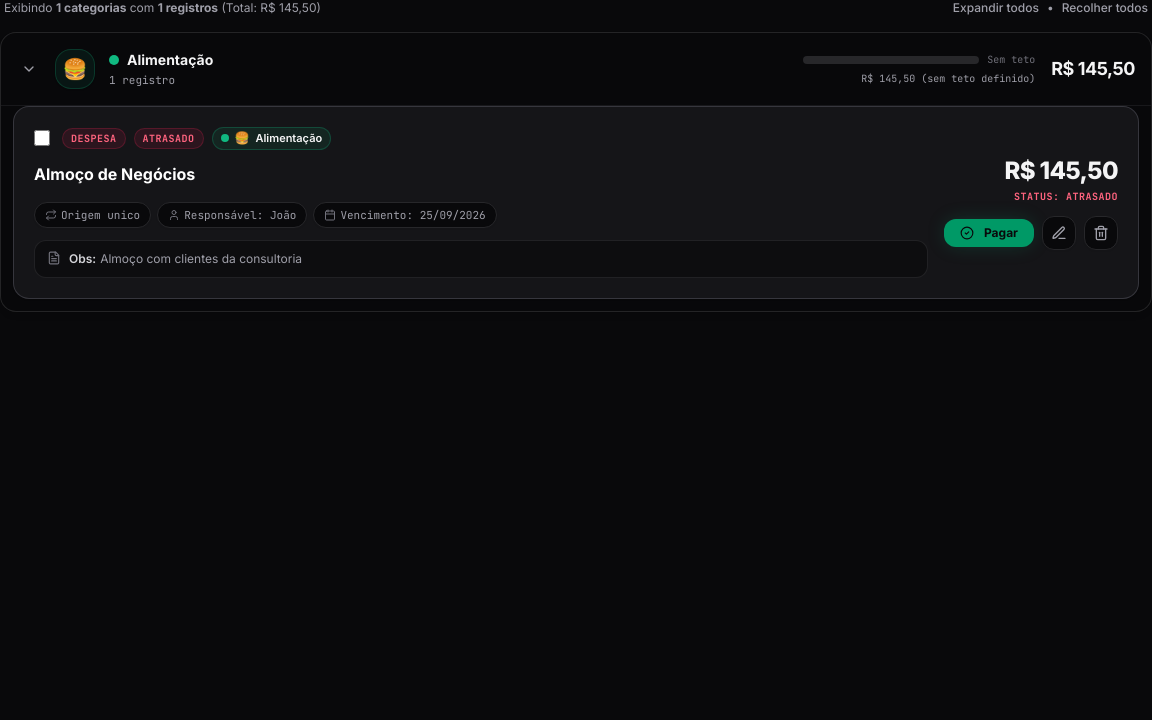
Test case: Confirmação de Exclusão de Lançamentos - CT001 › Visualização por Categoria (ExpenseCategoryAccordion) › exibe mensagem pedindo confirmação ao clicar no botão de excluir
// Clica no botão de excluir (ícone de lixeira)
Click the button titled "Excluir Lançamento" at (1101,233), box left=1084, top=216, right=1118, bottom=250
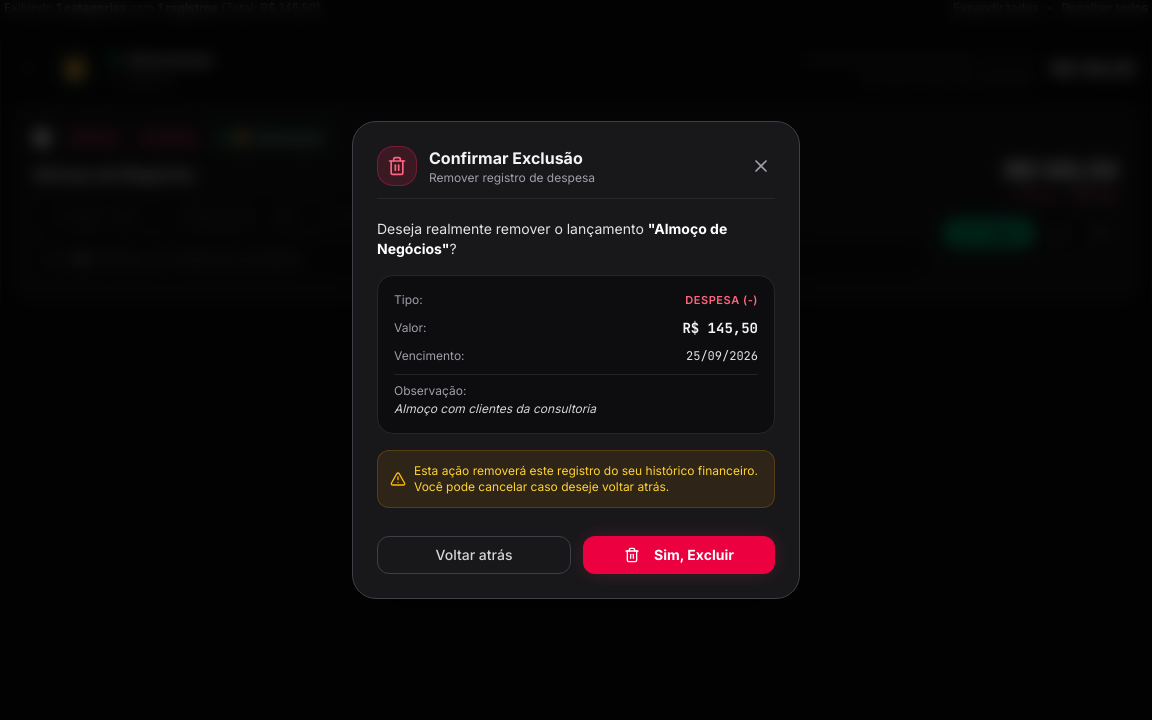
Check: the heading "Confirmar Exclusão" is shown, box left=429, top=146, right=595, bottom=170
Check: the text "Deseja realmente remover o lançamento \"Almoço de Negócios\"?" is shown, box left=377, top=219, right=775, bottom=259
Check: the text "\"Almoço de Negócios\"" is shown, box left=377, top=220, right=727, bottom=257
// Botão "Voltar atrás" permite cancelar a ação
Click the button "Voltar atrás" at (474,555), box left=377, top=536, right=571, bottom=574
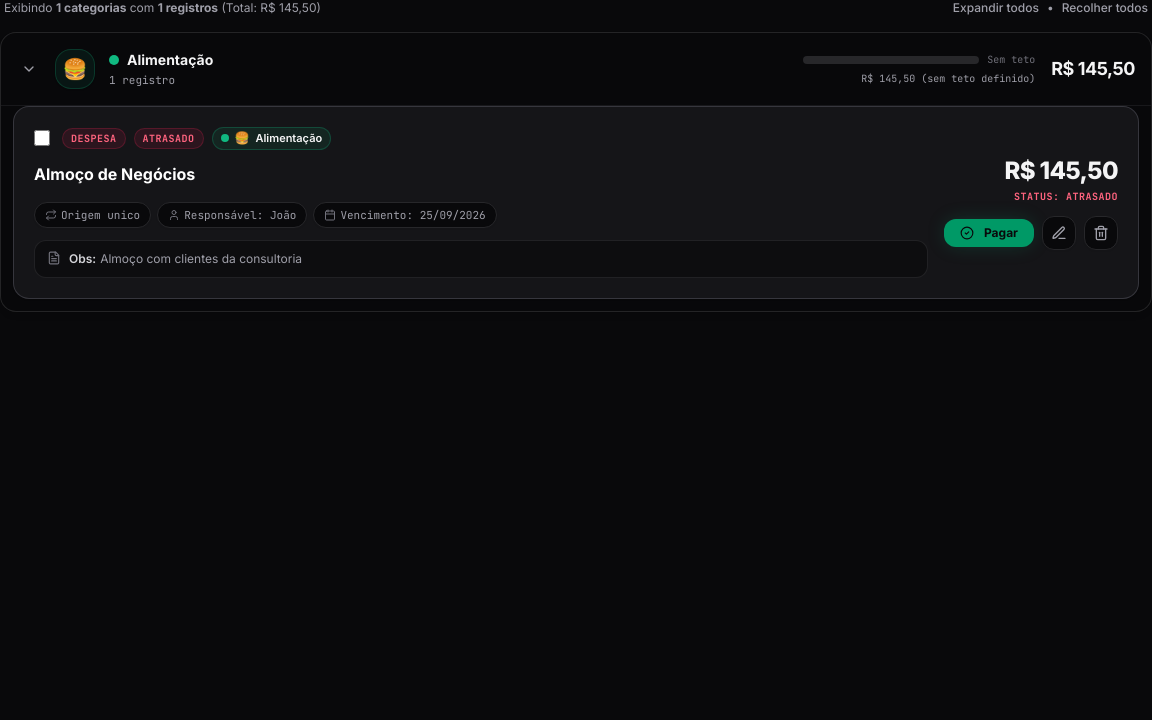
Check: the heading "Confirmar Exclusão" is gone
